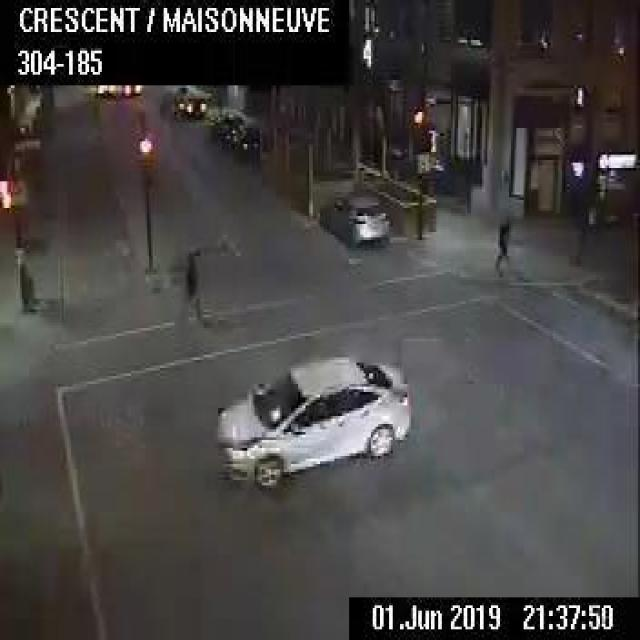pedestrian: (175, 242, 209, 330), (493, 217, 511, 276)
vehicle: (215, 355, 409, 488), (319, 189, 391, 248), (227, 122, 266, 157), (173, 82, 206, 116), (210, 111, 244, 144), (95, 82, 121, 96), (120, 82, 142, 96)
